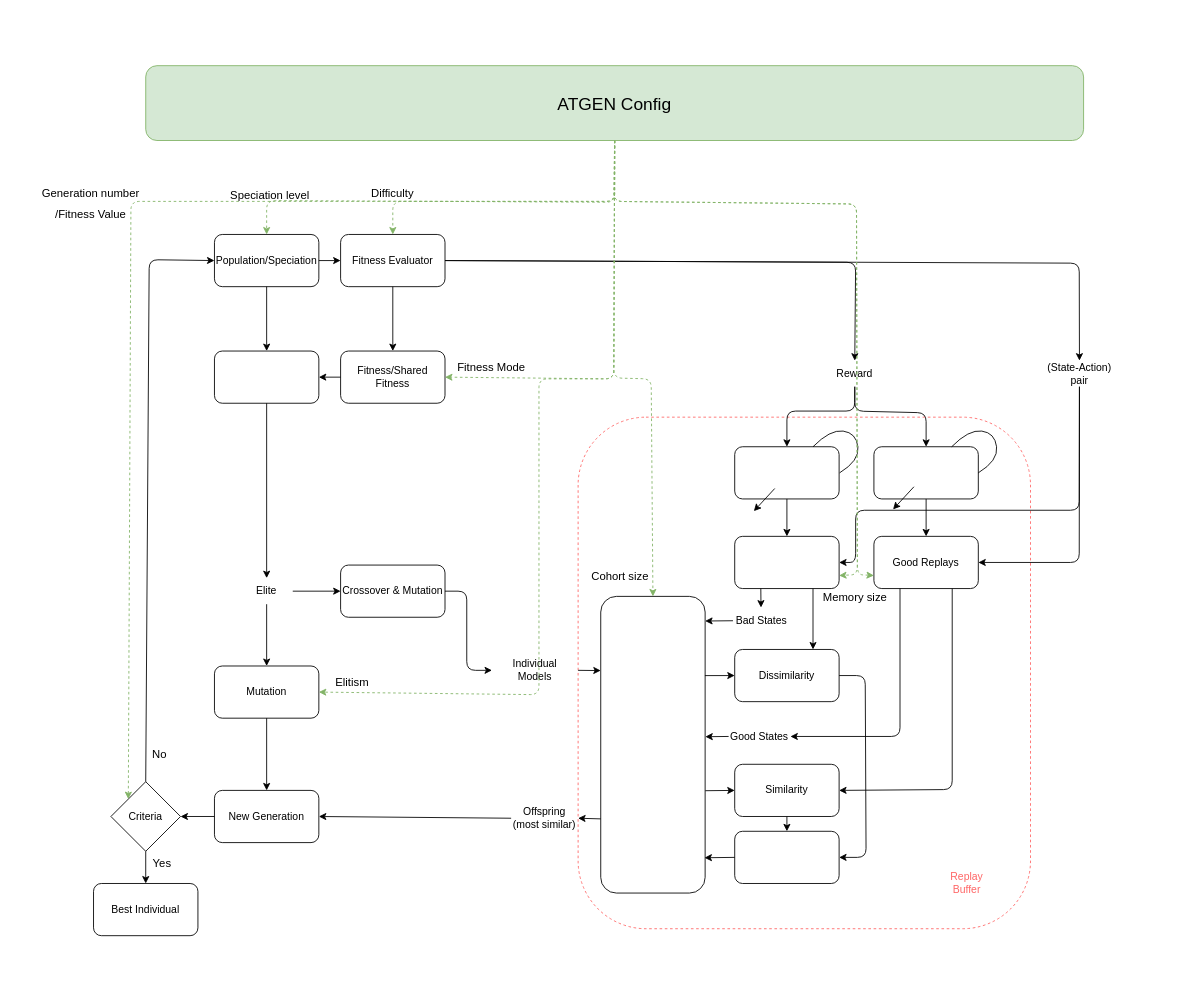
This 1178x998 diagram has some shape labels left out. Here are the shapes that lost their labels. From the top down, the centre of each, then its label:
At point (266, 376): "Selection".
At point (786, 472): "Lower Reward Limiter".
At point (925, 472): "Upper Reward Limiter".
At point (786, 562): "Bad Replays".
At point (652, 744): "Similarity Cohort".
At point (786, 856): "Model Selector".
